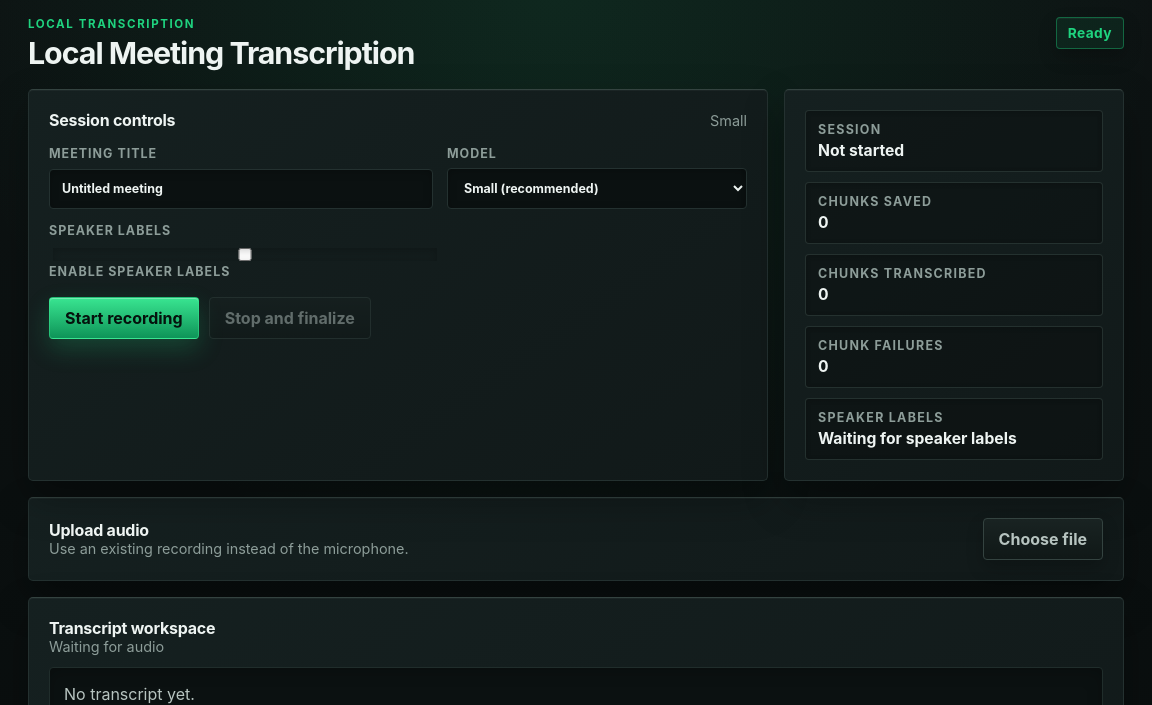
Test case: App › keeps attention status when live session finalizes with a partial transcript
The image size is (1152, 705).
What coordinates should you click on to do the following:
click the button "Start recording"
I would click on:
 (124, 318)
Its box is 49,297 -> 199,339.
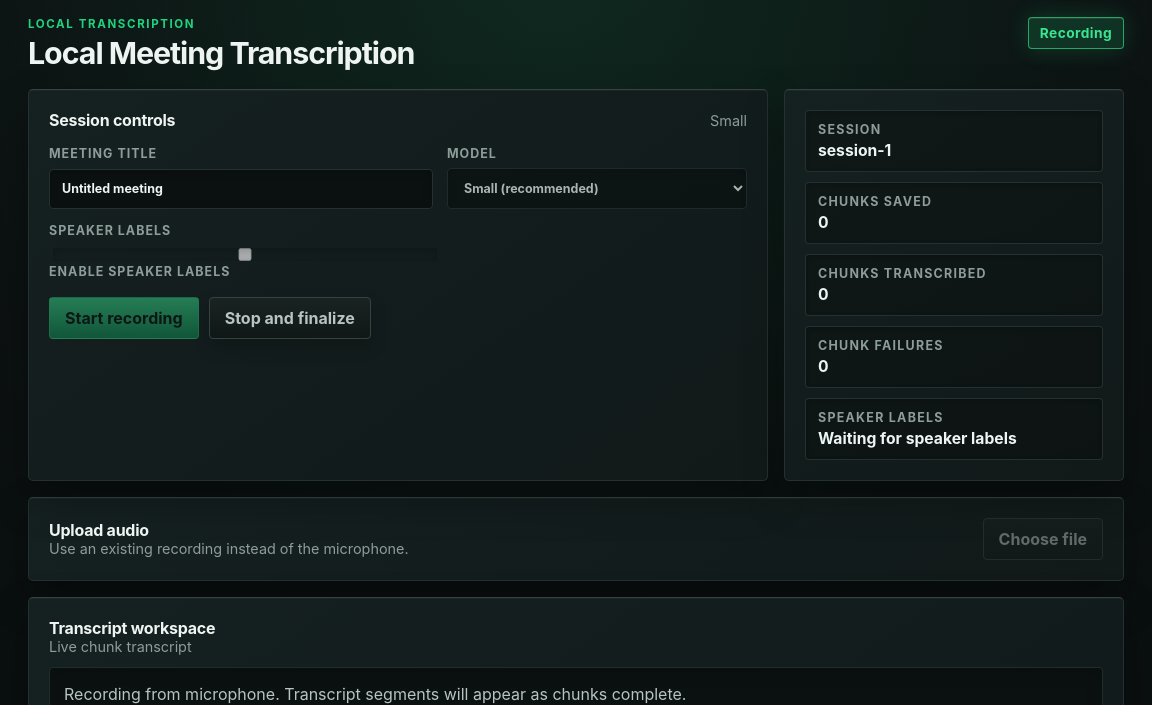
What coordinates should you click on to do the following:
click the button "Stop and finalize"
I would click on:
 (290, 318)
Its box is 209,297 -> 371,339.
(page scrolled)
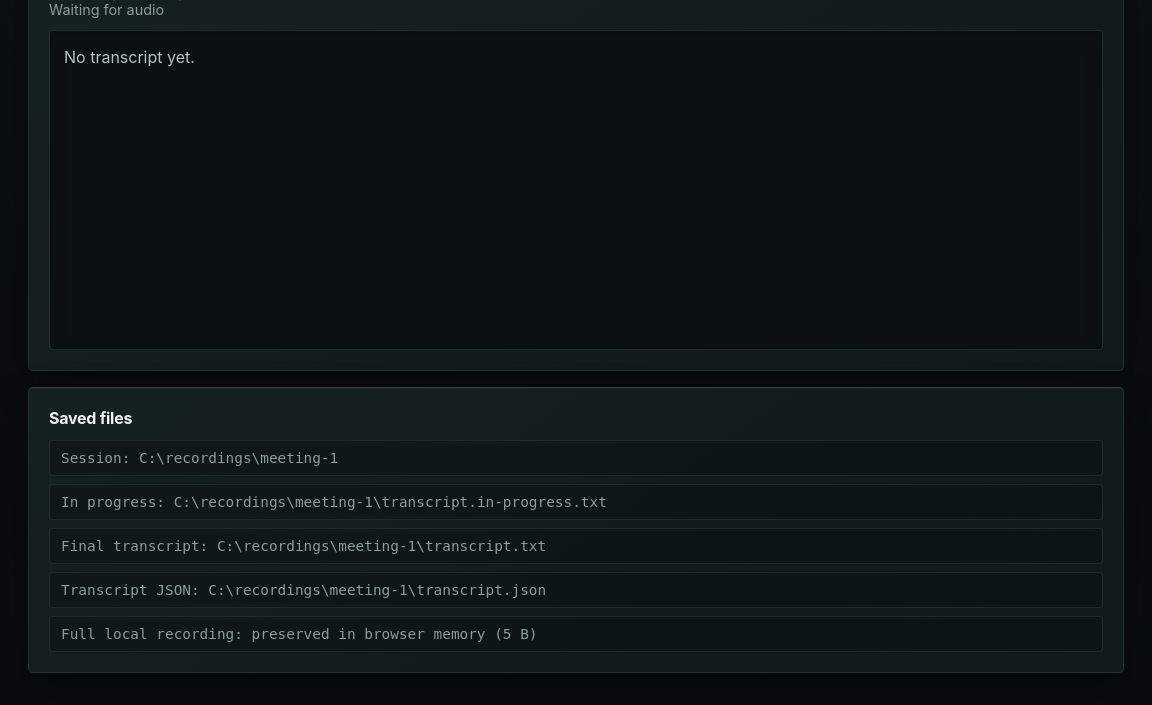
Result: the text "Final transcript: C:\\recordings\\meeting-1\\transcript.txt" is shown at 49,528 -> 1103,564
